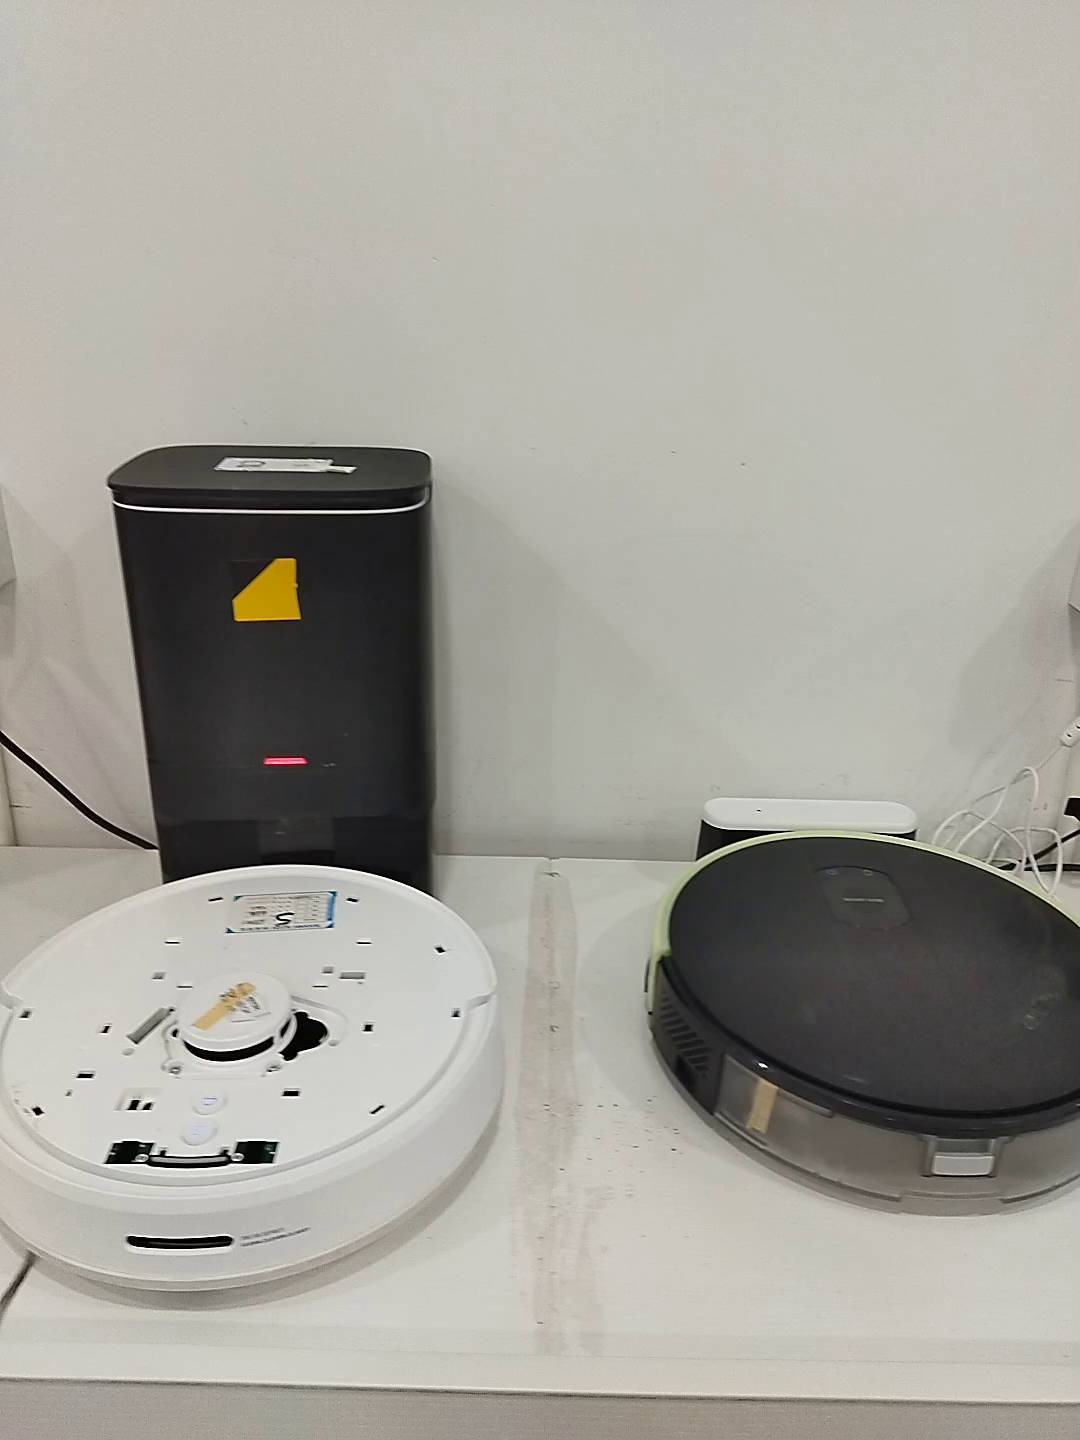dust collecting barrel: (106, 443, 433, 903)
